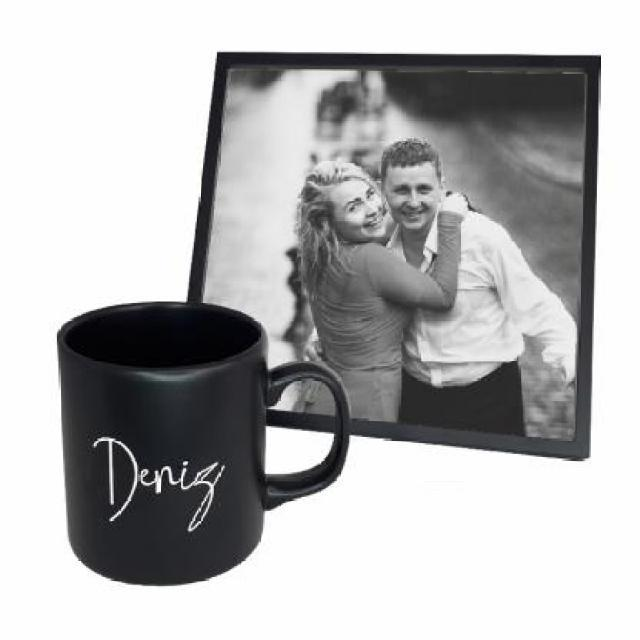taza: (56, 300, 352, 590)
